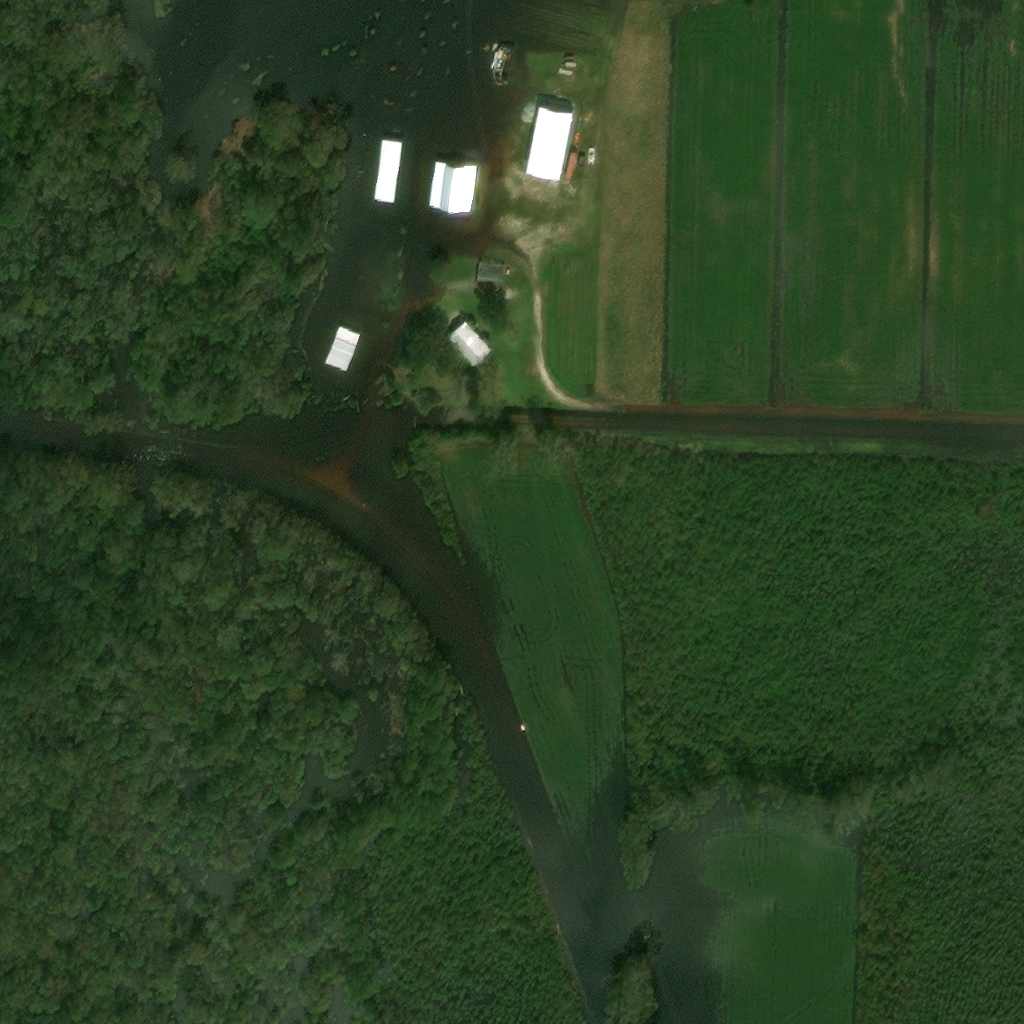destroyed: (491, 47, 515, 82)
major_damage: (430, 162, 475, 212), (373, 139, 401, 202), (325, 327, 360, 372)
minor_damage: (522, 105, 575, 179), (475, 264, 506, 296), (564, 153, 578, 180)
no_damage: (447, 323, 491, 367)
